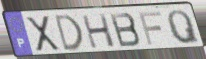B: (108, 11, 143, 49)
D: (53, 13, 86, 54)
F: (137, 10, 163, 47)
H: (80, 13, 117, 50)
Q: (166, 9, 202, 46)
X: (24, 15, 62, 54)
